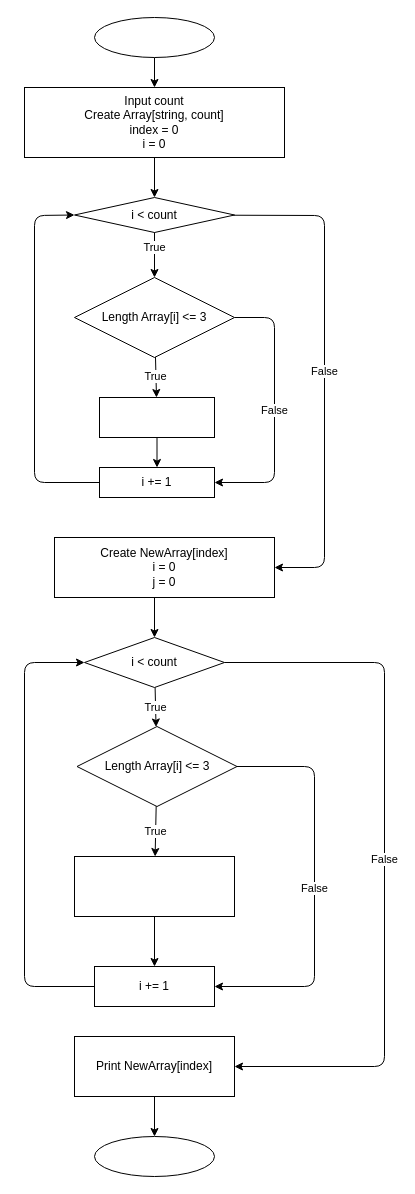
The diagram is 415 pixels wide and 1194 high, and some of its shapes have lost their labels. The shapes that lost their labels are listed below. From the top down, each one's box as (x1, y1, x2, y2) in pixels, then its label:
(94, 16, 214, 58): Start
(98, 396, 214, 438): index += 1
(74, 856, 234, 916): NewArray[j] = Array[i] j += 1
(94, 1136, 214, 1176): Finish
